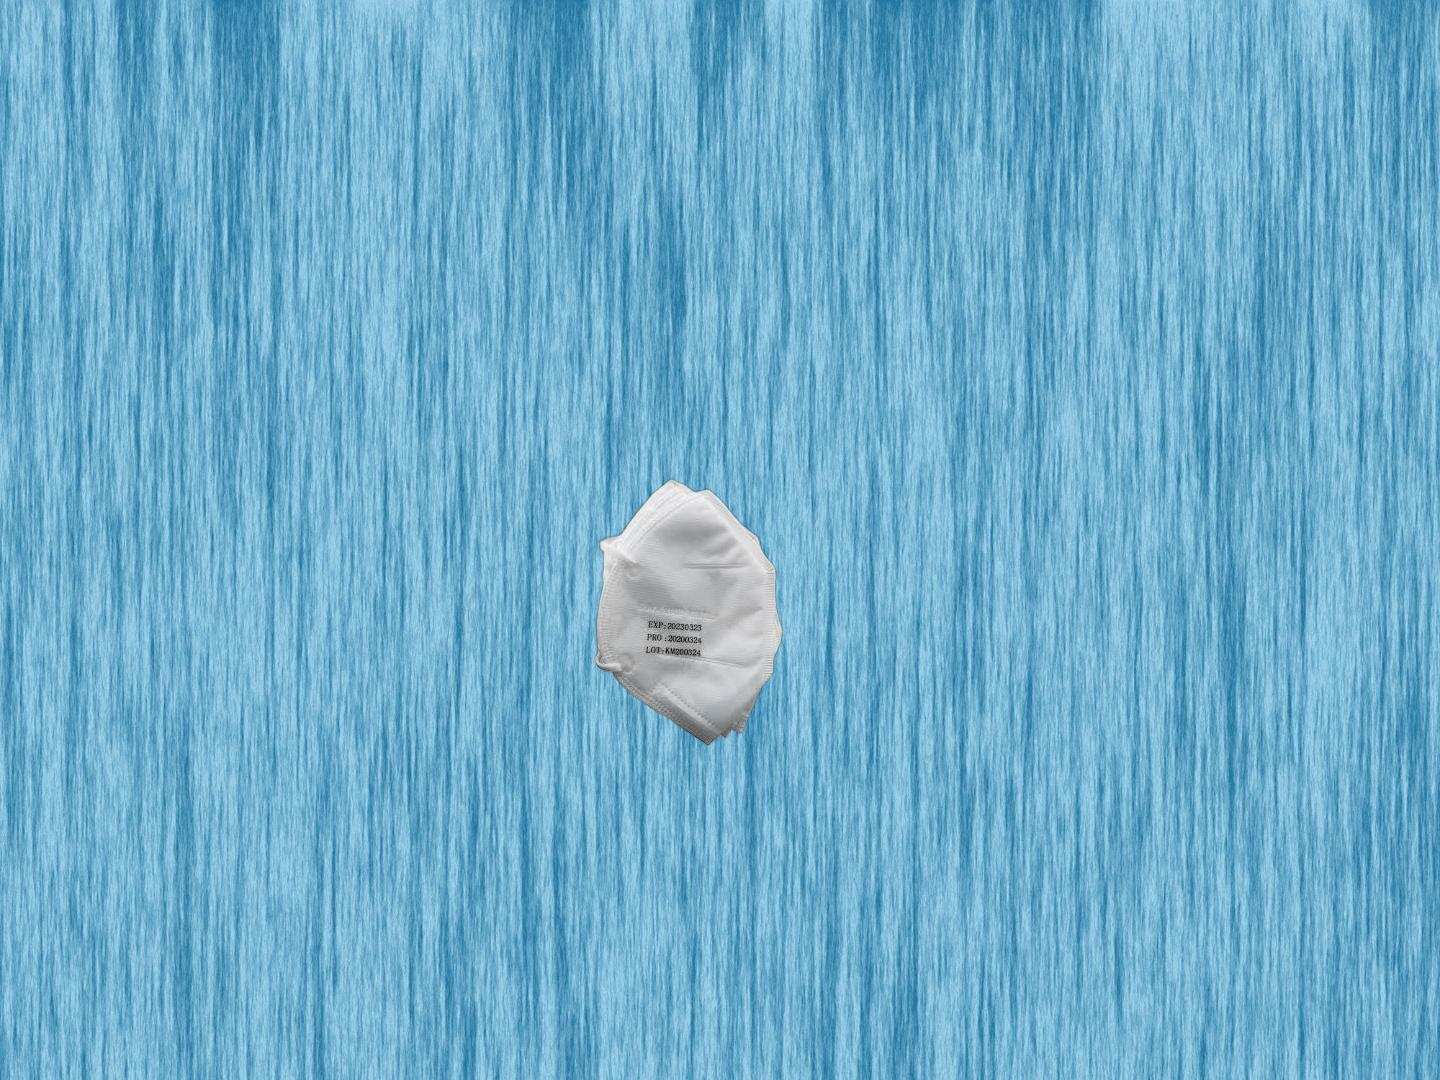trash: (595, 478, 783, 746)
